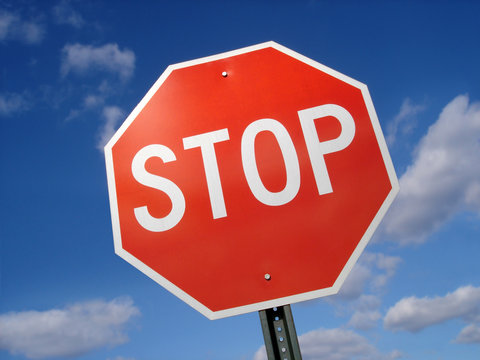Stop: (100, 35, 402, 322)
